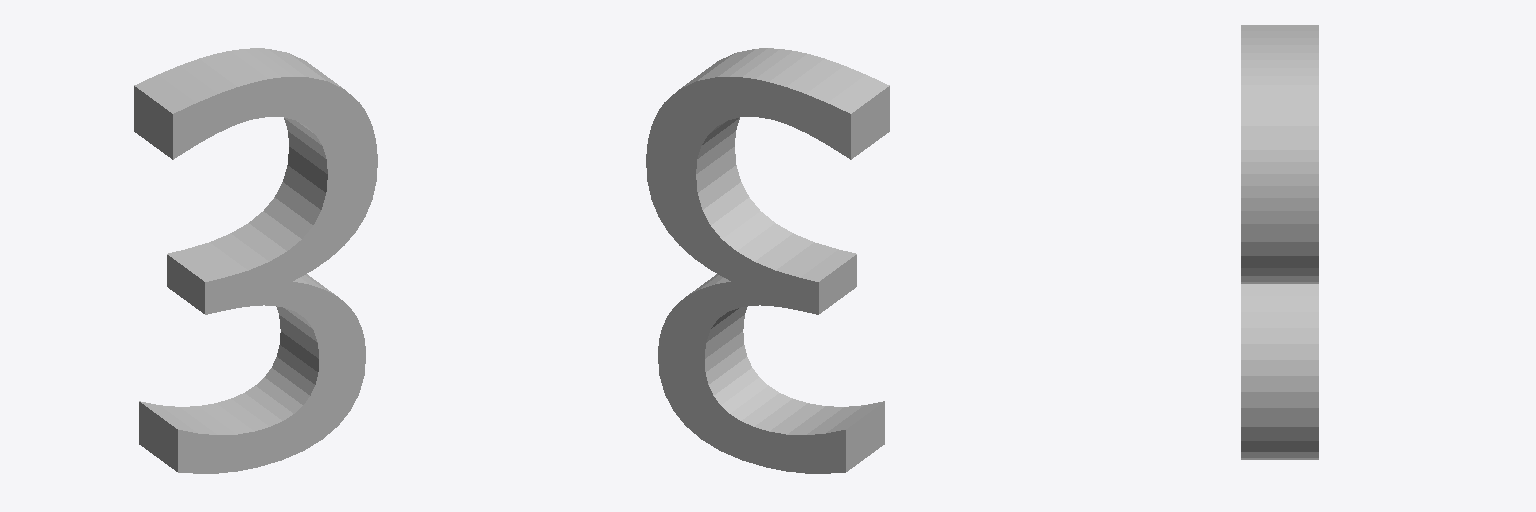
File: Number3.obj
3 views of the same model, side by side, from view 1: azimuth 30°, elevation 25°; view 2: azimuth 150°, elevation 25°; view 3: azimuth 270°, elevation 25° (orthographic).
Parts seen in each view (by area): view 1: typeMesh1; view 2: typeMesh1; view 3: typeMesh1.
Boxes of the visible parts, x1=… form: typeMesh1: x1=134, y1=48, x2=377, y2=473; typeMesh1: x1=646, y1=48, x2=889, y2=473; typeMesh1: x1=1241, y1=25, x2=1318, y2=459.
Bounding box in the file's own units: 0.7805 × 1.41 × 0.2559.